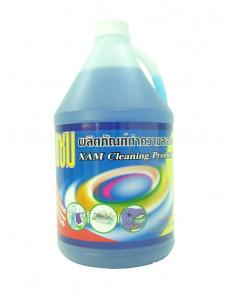Cleaning_solution: (49, 11, 181, 274)
